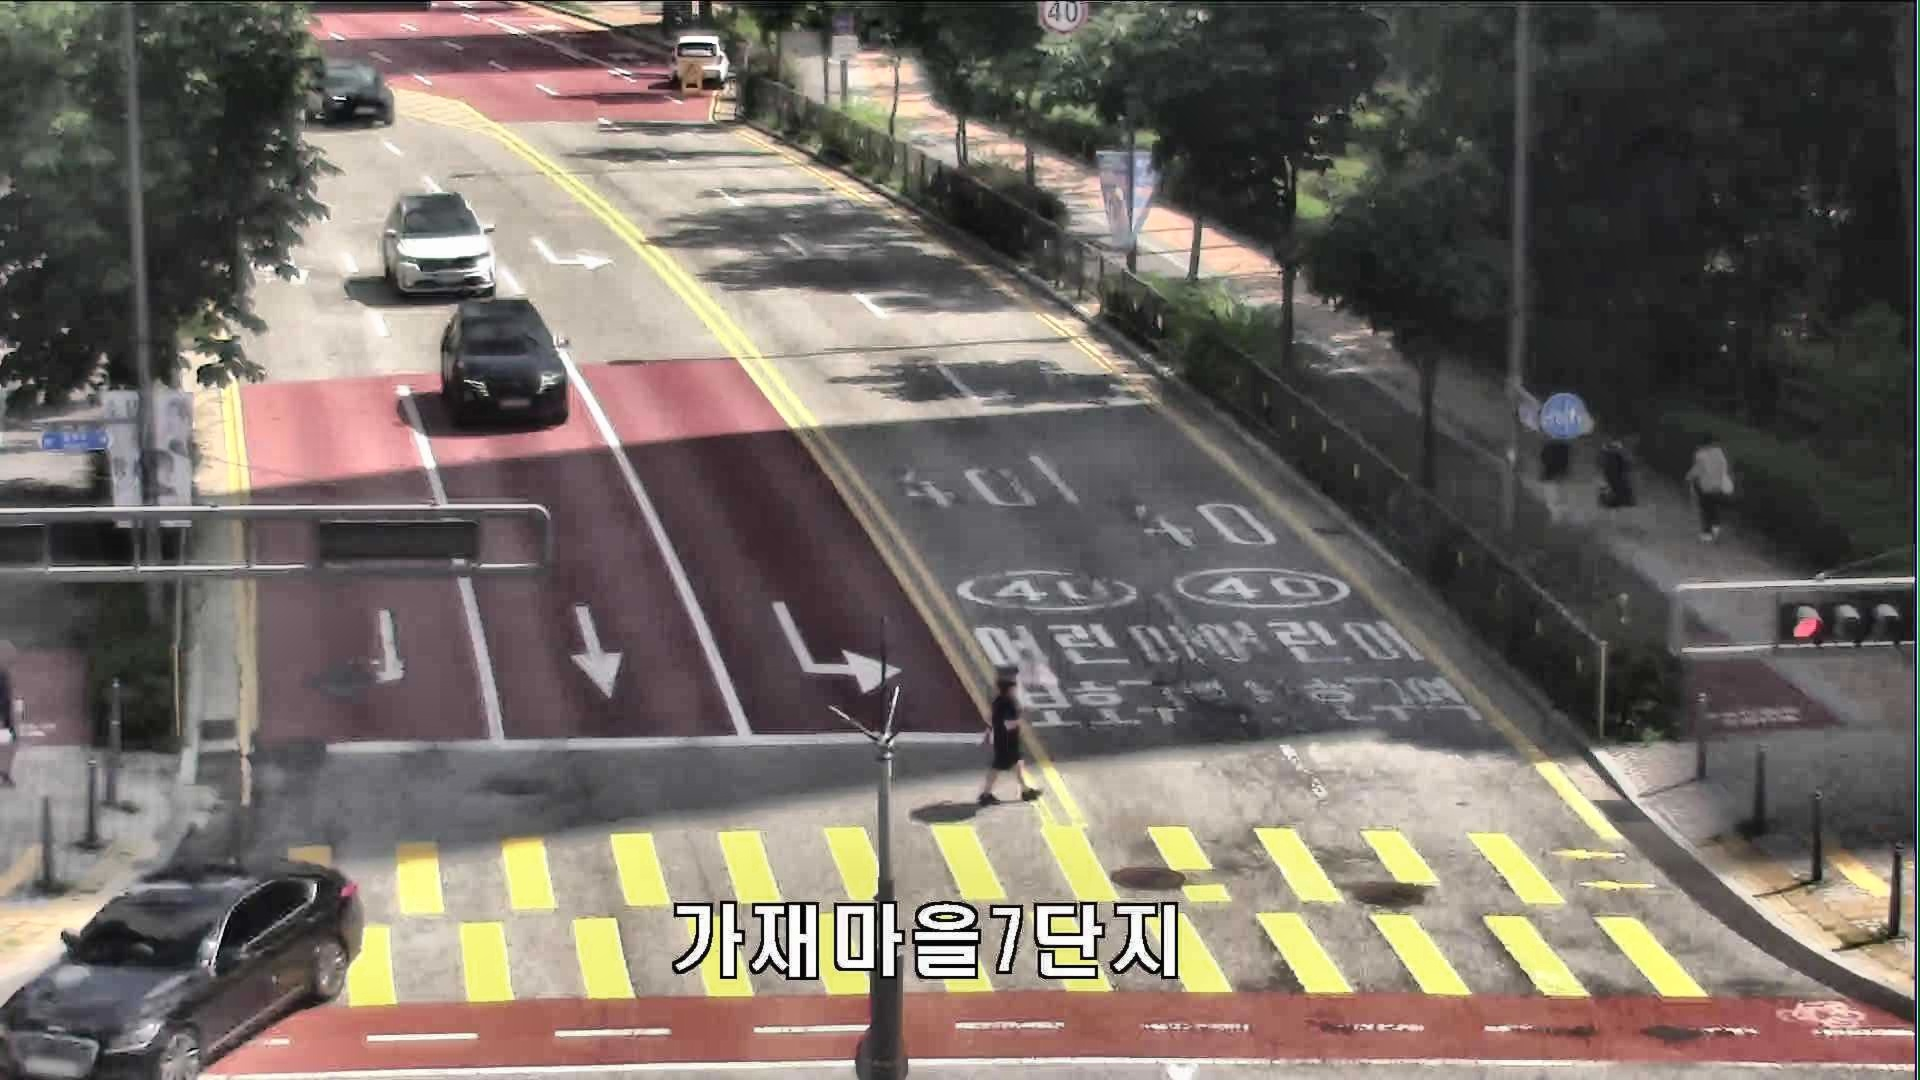sidewalk: (1684, 430, 1735, 542), (1594, 427, 1640, 527)
um_crosswalk: (971, 657, 1058, 808)
